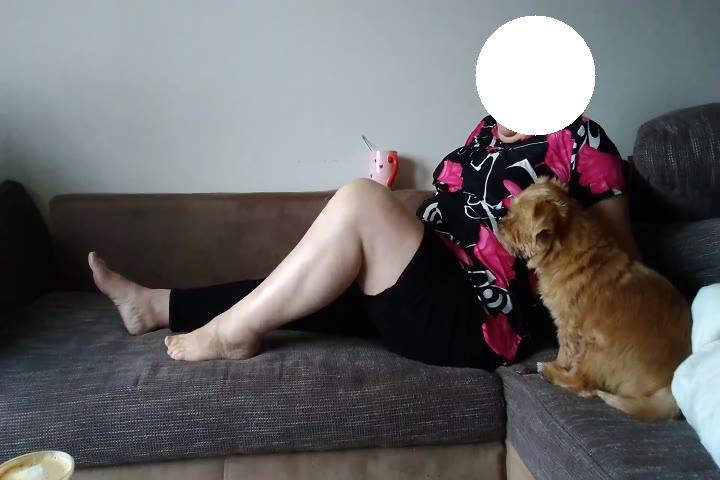lowerbody: (84, 173, 503, 380)
